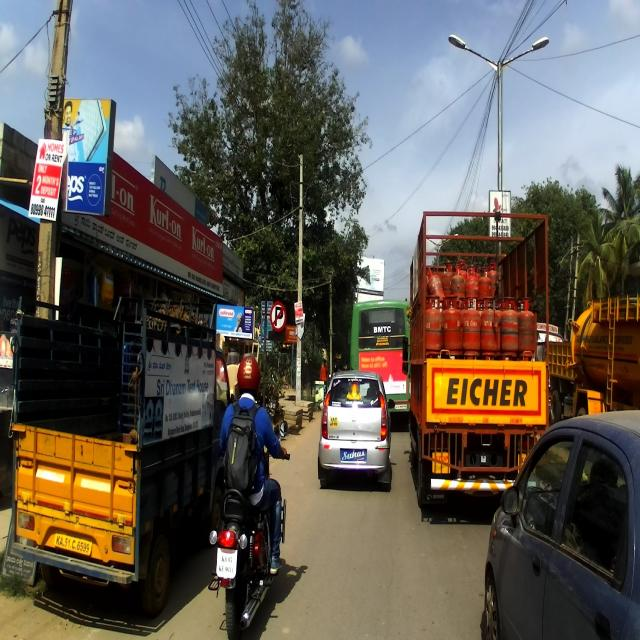bus: (346, 301, 416, 416)
car: (482, 411, 638, 638), (318, 369, 395, 490)
motorcycle: (207, 419, 293, 639)
truck: (8, 290, 234, 616), (398, 206, 550, 515)
